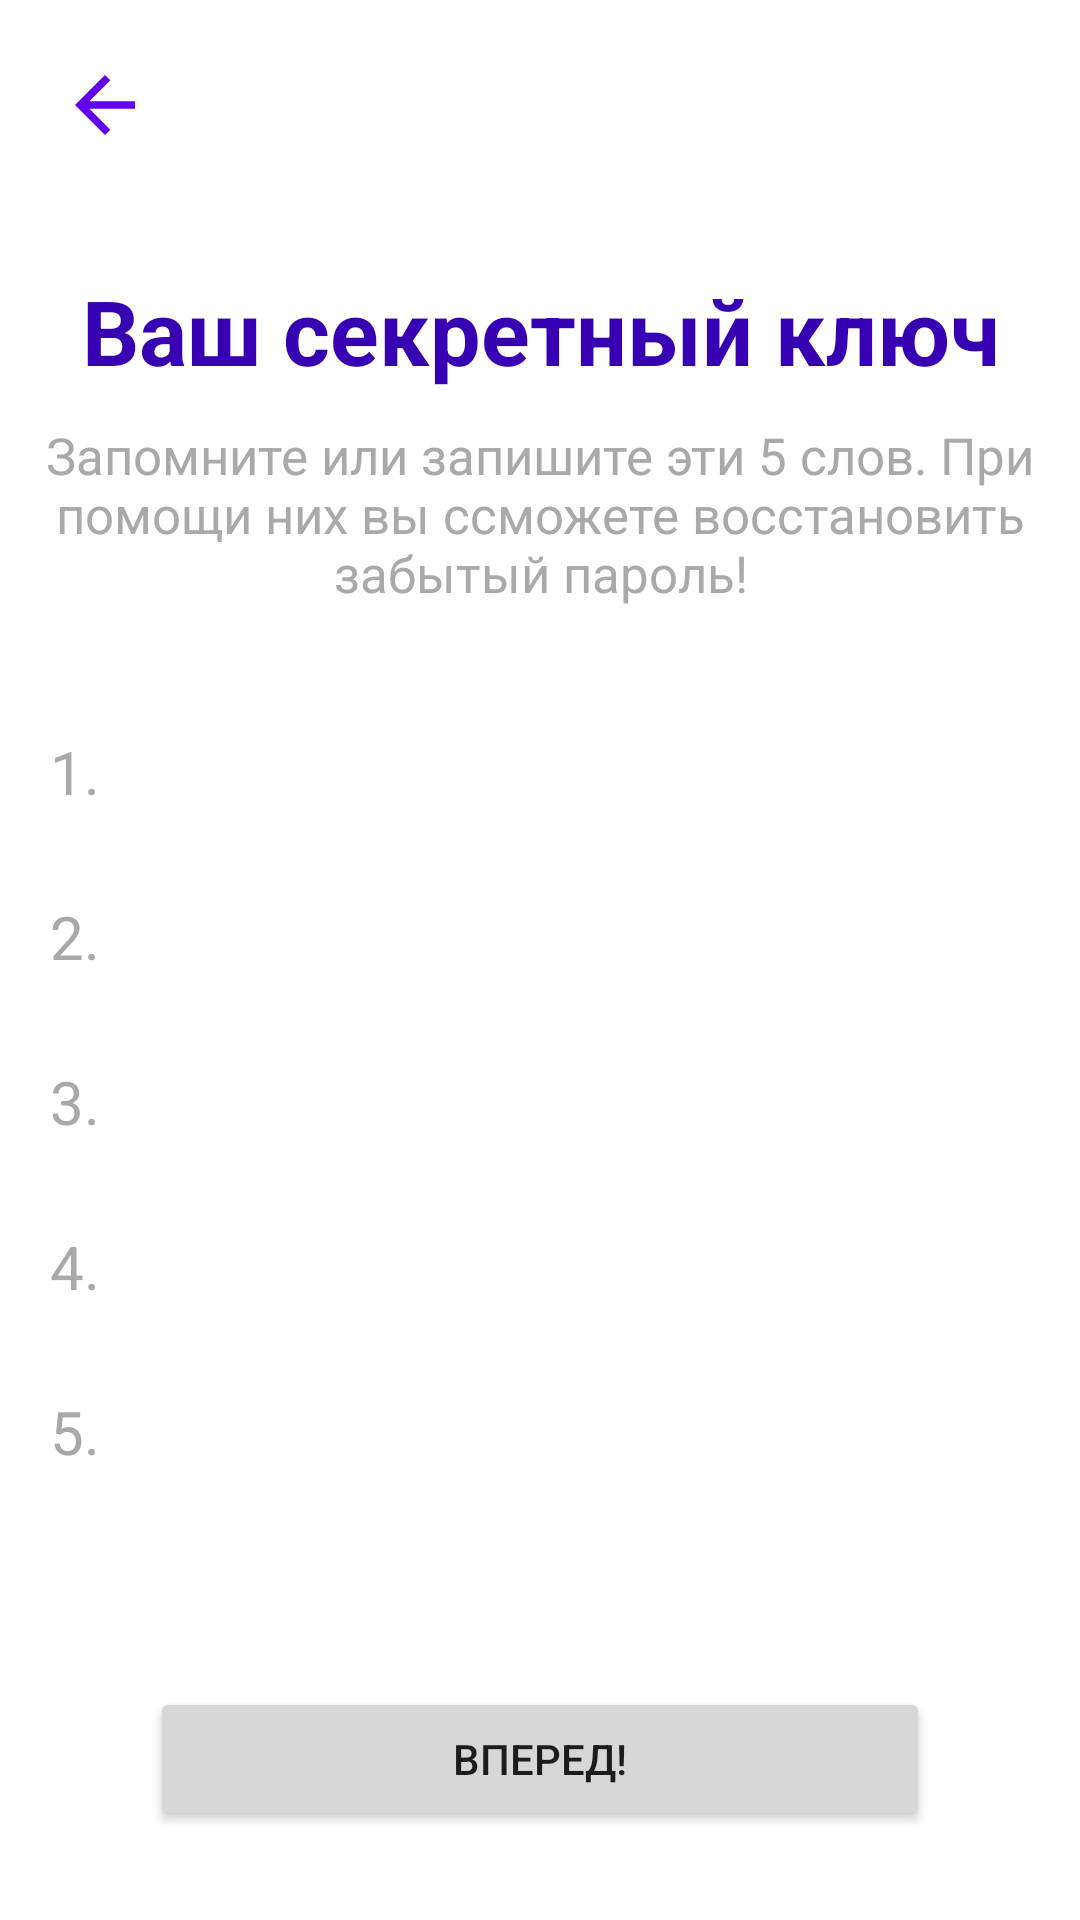

Point at icon controls on the screen. Image size 1080px×1920px, points as (x,y).
back: (105,105)
